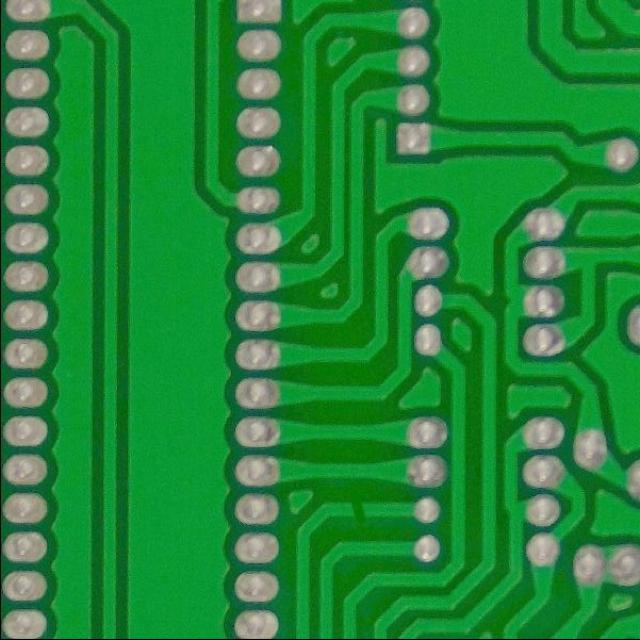open_circuit: (343, 498, 370, 524)
